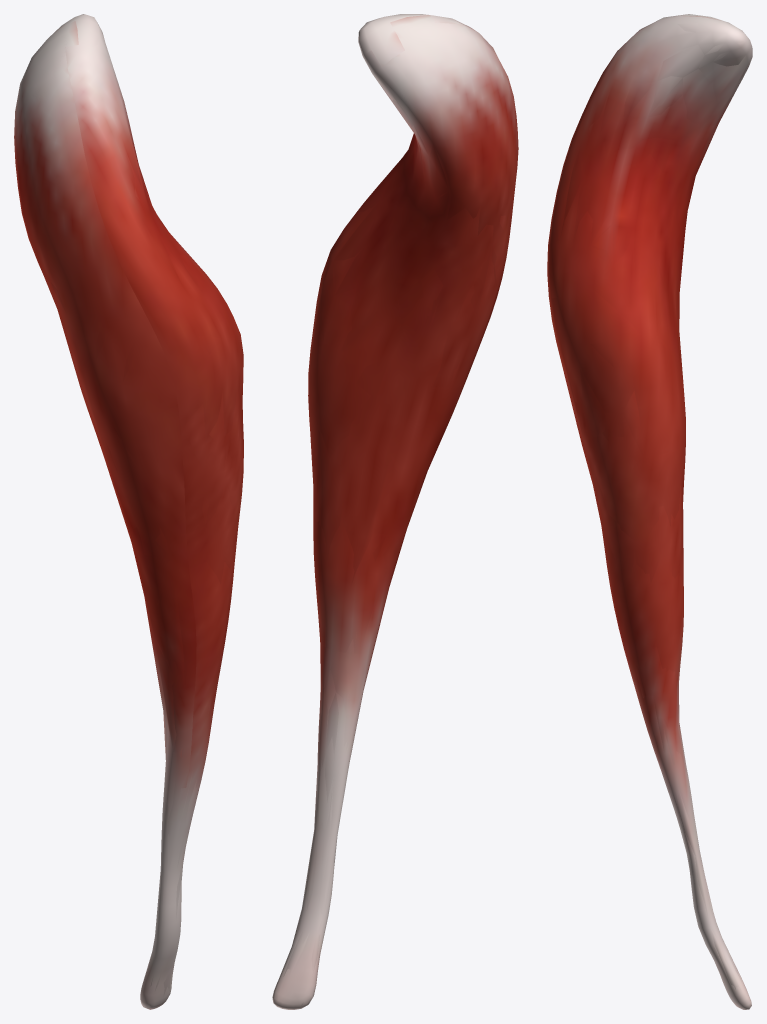
File: R Extensor Carpi Radialis.fbx
3 views of the same model, side by side, from view 1: azimuth 30°, elevation 25°; view 2: azimuth 150°, elevation 25°; view 3: azimuth 270°, elevation 25° (orthographic). The views are drawn at different scales.
Parts seen in each view (by area): view 1: R Extensor Carpi Radialis, R Extensor Carpi Radialis low; view 2: R Extensor Carpi Radialis, R Extensor Carpi Radialis low; view 3: R Extensor Carpi Radialis, R Extensor Carpi Radialis low.
Boxes of the visible parts, x1,y1,x2,y2 form: R Extensor Carpi Radialis: (14, 14, 243, 1009); R Extensor Carpi Radialis low: (25, 14, 243, 1007); R Extensor Carpi Radialis: (272, 14, 518, 1009); R Extensor Carpi Radialis low: (276, 14, 514, 1008); R Extensor Carpi Radialis: (547, 14, 752, 1009); R Extensor Carpi Radialis low: (549, 15, 752, 1008).
Size of the model in its own units: 11.37 by 55.31 by 10.9.
